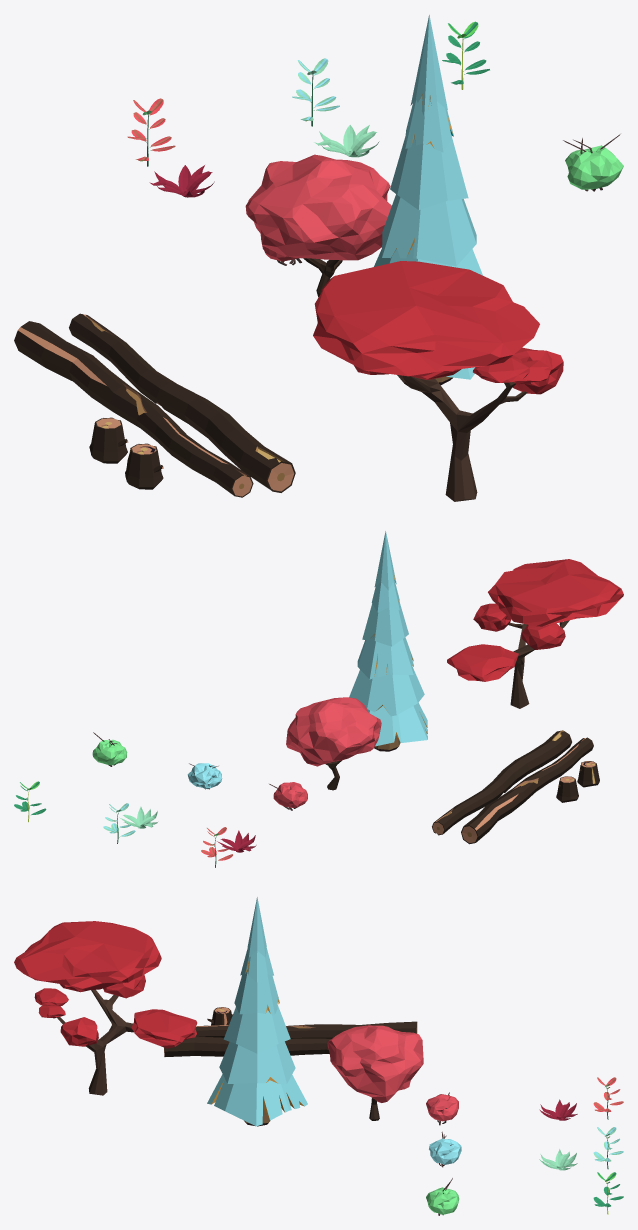
Rendered from ForestPackBlend2.fbx.
3 renders of one model, top to bottom at view 1: azimuth 30°, elevation 25°; view 2: azimuth 150°, elevation 25°; view 3: azimuth 270°, elevation 25°, orthographic. The views are drawn at different scales.
Parts seen in each view (by area): view 1: Tree5, PineTree2, Tree2, TreeLog2, TreeLog, Bush3, Stump4, Stump2, Grass2, Grass3, LeafFlower2, LeafFlower (+1 smaller); view 2: Tree5, PineTree2, Tree2, TreeLog, TreeLog2, Bush5, Bush3, Bush4, Stump4, Stump2; view 3: Tree5, PineTree2, Tree2, TreeLog, TreeLog2, Bush3, Bush5, Bush4.
Part boxes in pixels (box(x1,y1,x2,y2)): Tree5: box(313, 261, 563, 501); PineTree2: box(374, 15, 482, 385); Tree2: box(245, 154, 391, 297); TreeLog2: box(14, 321, 253, 497); TreeLog: box(69, 313, 295, 492); Bush3: box(563, 134, 623, 191); Stump4: box(125, 443, 163, 489); Stump2: box(89, 417, 128, 463); Grass2: box(314, 125, 379, 157); Grass3: box(149, 165, 214, 197); LeafFlower2: box(127, 98, 175, 166); LeafFlower: box(442, 21, 489, 89); Tree5: box(447, 559, 623, 708); PineTree2: box(349, 531, 427, 751); Tree2: box(286, 697, 381, 790); TreeLog: box(432, 730, 571, 835); TreeLog2: box(461, 737, 593, 844); Bush5: box(269, 782, 307, 810); Bush3: box(92, 732, 127, 766); Bush4: box(187, 763, 222, 789); Stump4: box(577, 761, 599, 787); Stump2: box(556, 776, 578, 802); Tree5: box(14, 921, 197, 1095); PineTree2: box(207, 897, 307, 1126); Tree2: box(327, 1025, 423, 1120); TreeLog: box(164, 1036, 330, 1056); TreeLog2: box(195, 1021, 417, 1038); Bush3: box(426, 1178, 459, 1215); Bush5: box(426, 1092, 458, 1125); Bush4: box(429, 1131, 461, 1167).
Size of the model in its own units: 1345 by 710 by 1710.
